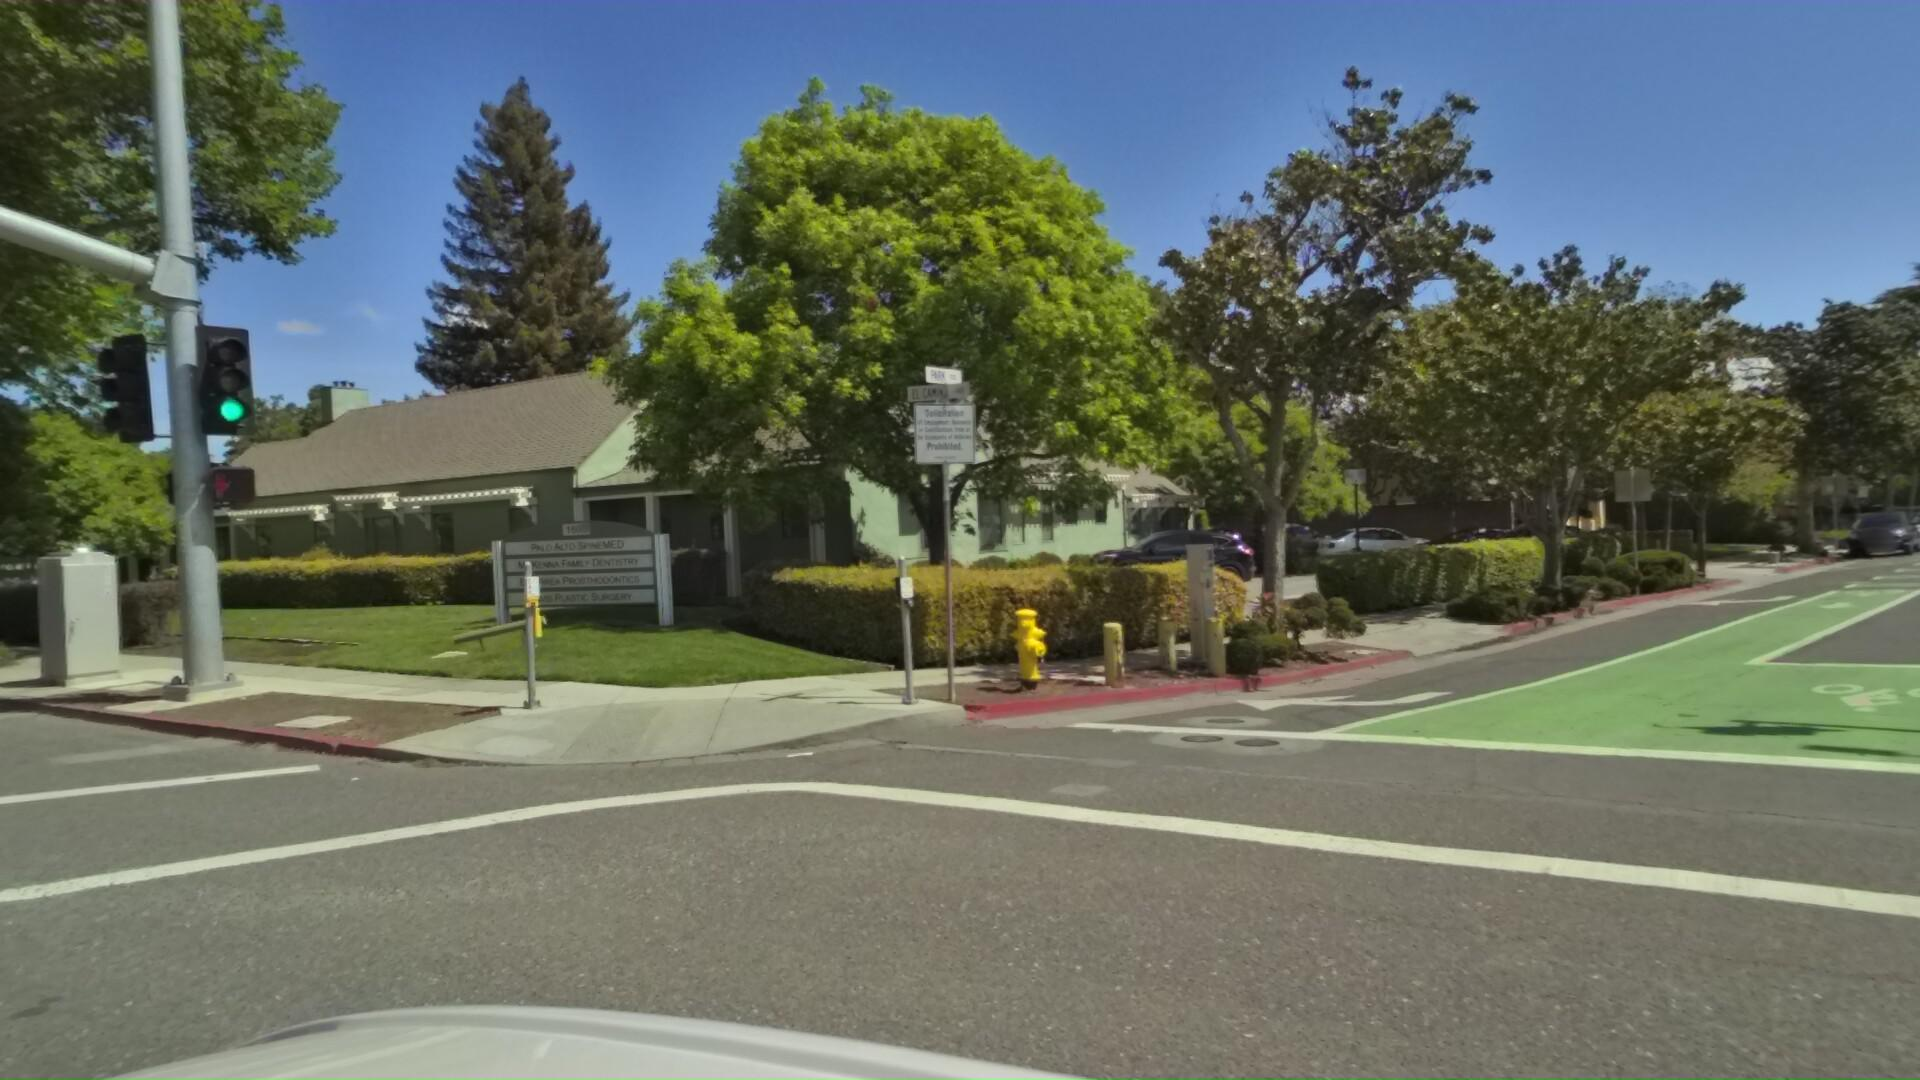car: (1089, 518, 1276, 593), (1408, 520, 1549, 560), (1849, 502, 1920, 553), (1912, 504, 1920, 539)
